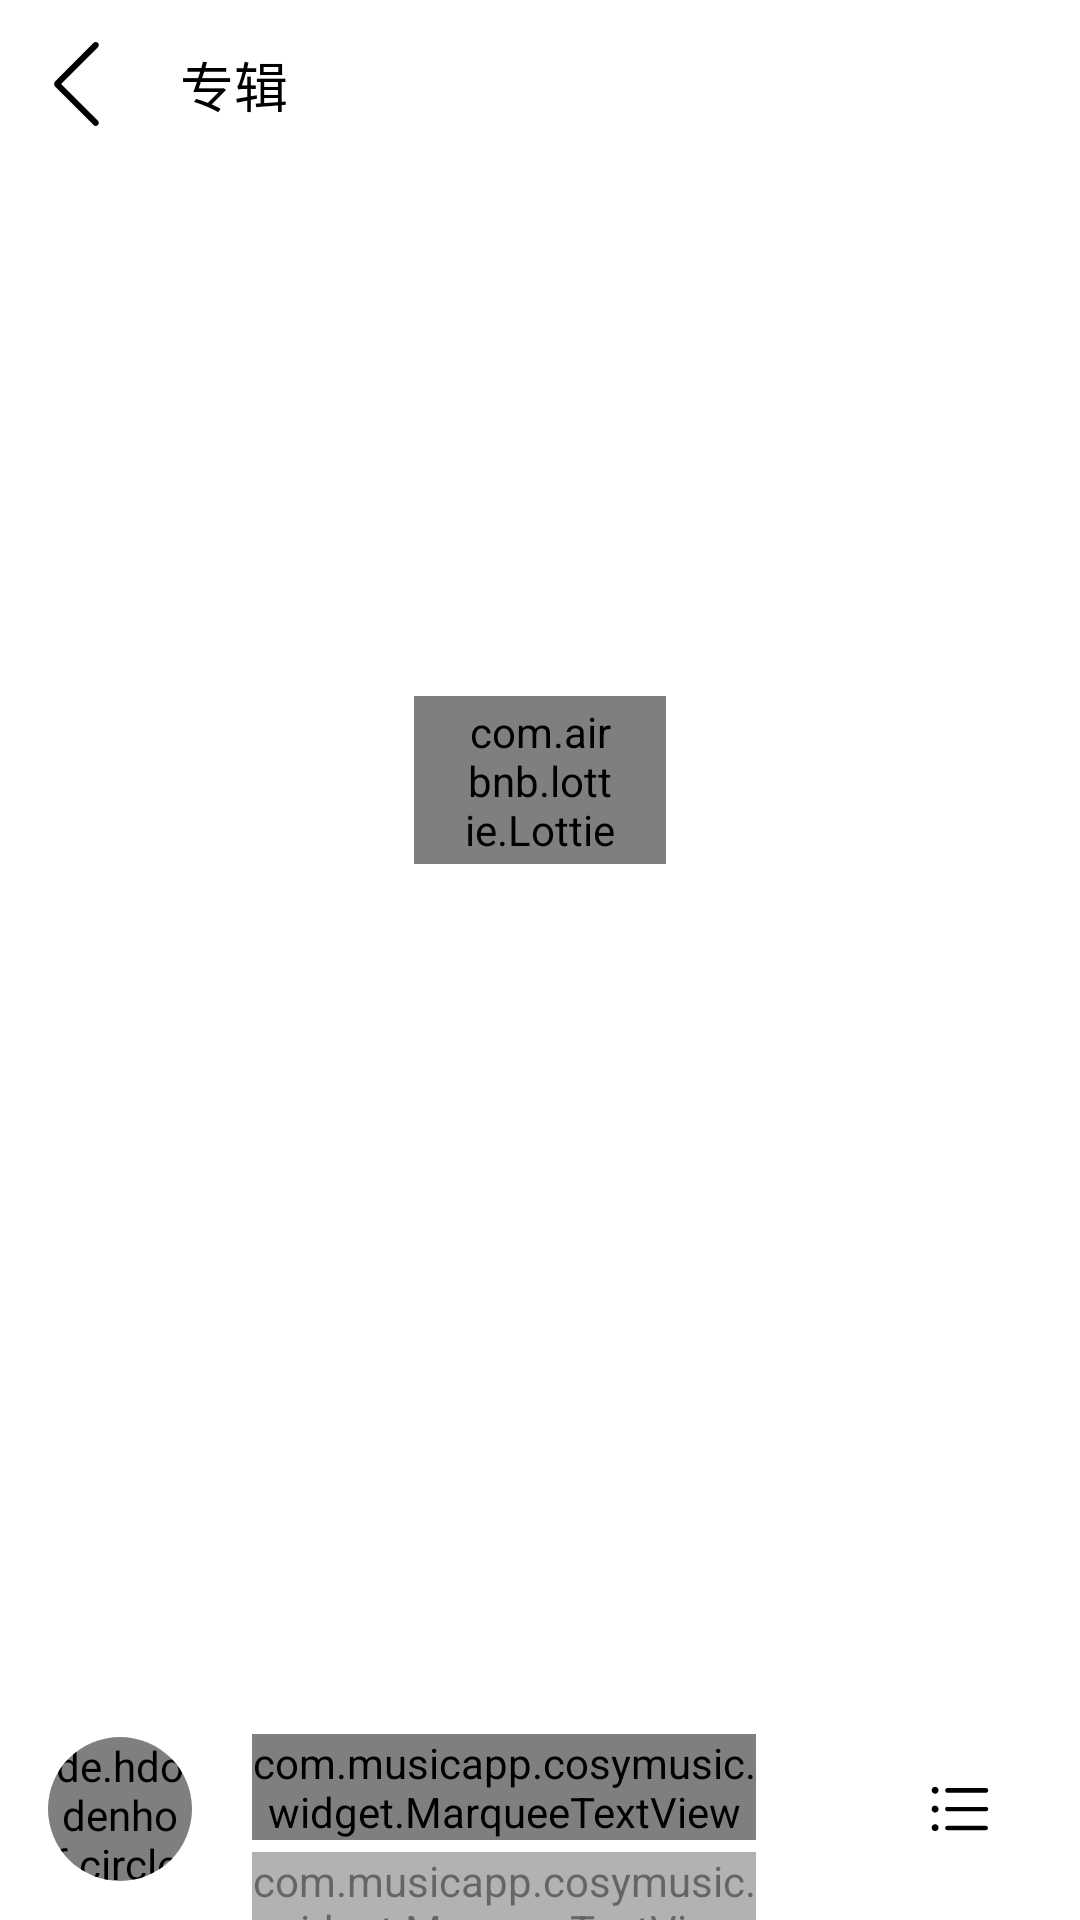

Point at icon controls on the screen. Image size 1080 × 1920, points as [x,y].
back: [76,84]
player menu: [960,1808]
